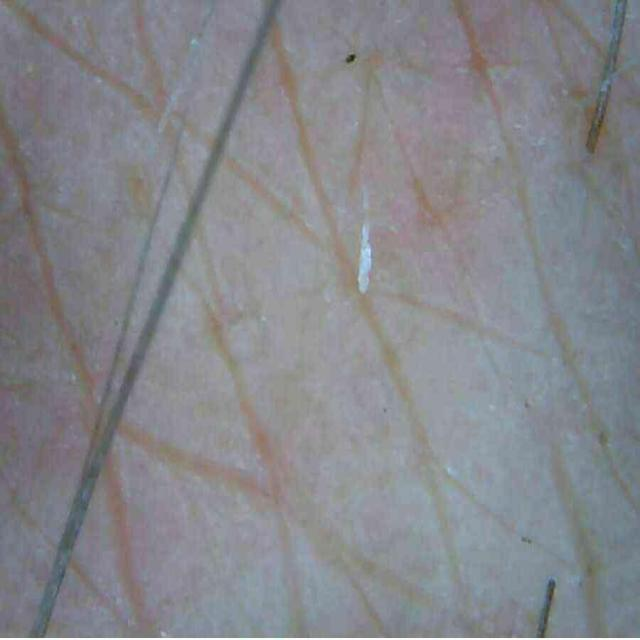d: (355, 217, 373, 298)
